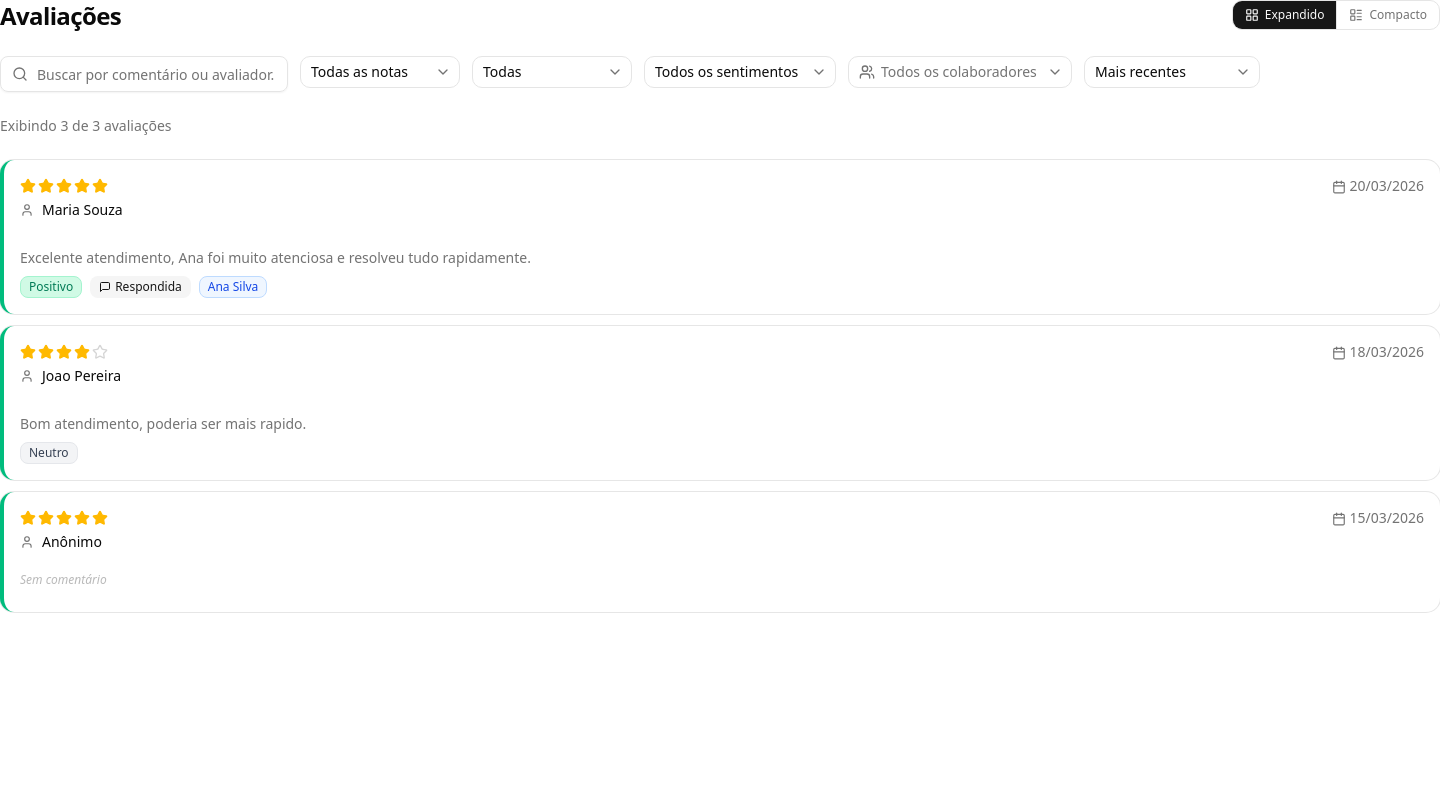
Scenario: ReviewsPage › clicking a review opens detail dialog
Expected: the text "Maria Souza" is shown, [20, 200, 123, 219]
Click the text "Maria Souza". click: (720, 237)
box: [0, 160, 1439, 314]
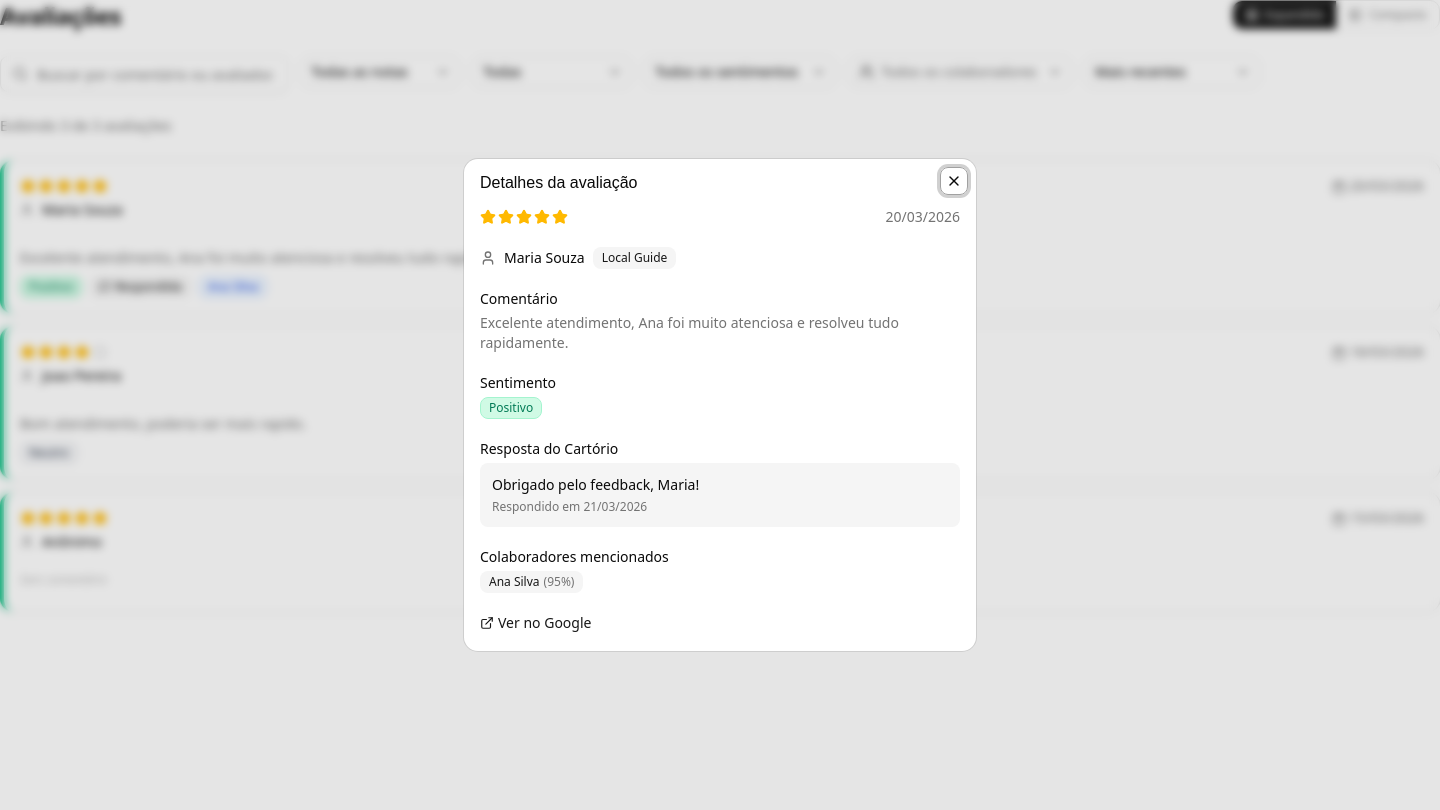
Expected: the heading "Detalhes da avaliação" is shown, [480, 174, 637, 191]
